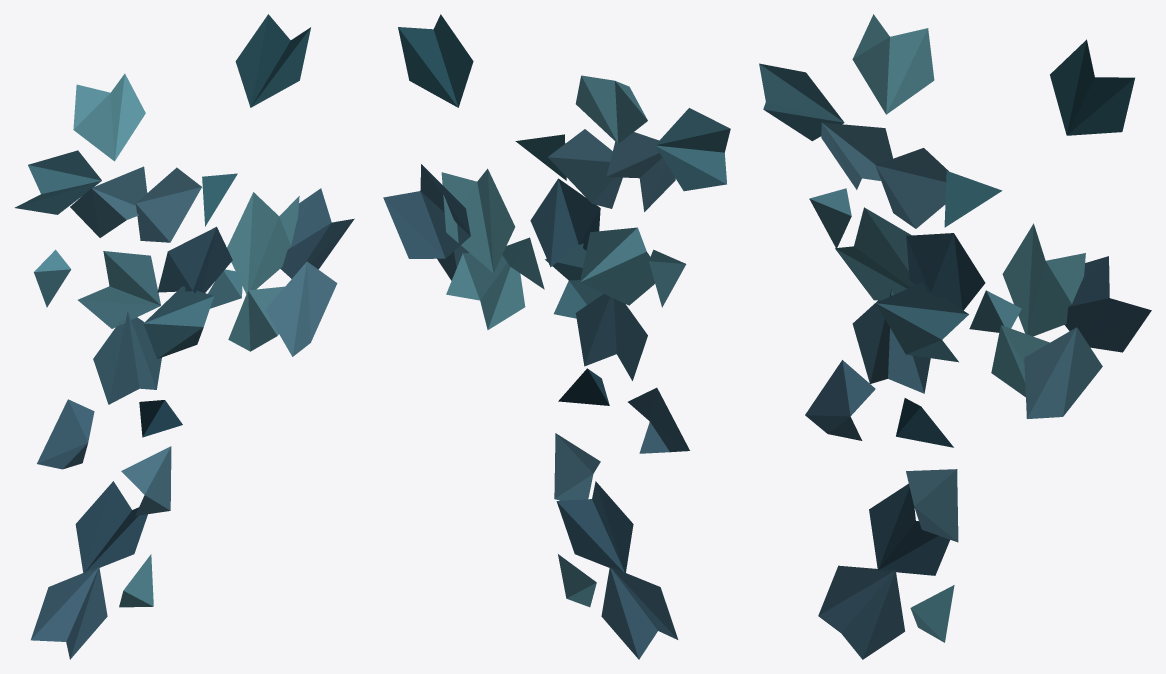
File: SM_Env_Ivy_02.fbx
3 views of the same model, side by side, from view 1: azimuth 30°, elevation 25°; view 2: azimuth 150°, elevation 25°; view 3: azimuth 330°, elevation 25° (orthographic). The views are drawn at different scales.
Parts seen in each view (by area): view 1: SM_Env_Ivy_02; view 2: SM_Env_Ivy_02; view 3: SM_Env_Ivy_02.
Part boxes in pixels (box(x1,y1,x2,y2)): SM_Env_Ivy_02: box(14, 14, 354, 659); SM_Env_Ivy_02: box(383, 14, 730, 659); SM_Env_Ivy_02: box(759, 14, 1151, 659).
Size of the model in its own units: 1.45 by 2.42 by 0.2952.
Materials: 1 (1 with a texture image).
